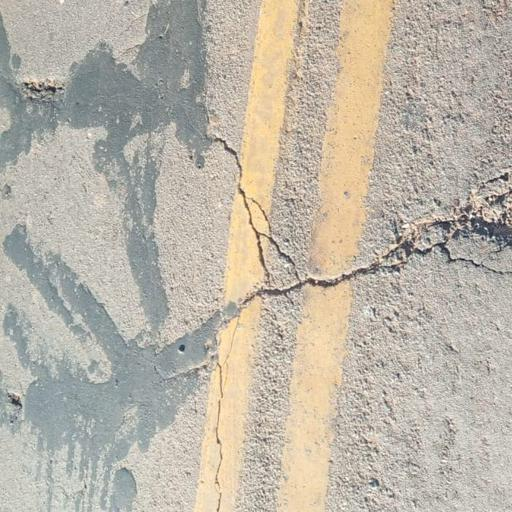GRIETA: (240, 175, 511, 307), (202, 133, 273, 280), (248, 196, 301, 281), (444, 247, 511, 274), (214, 362, 225, 511)
